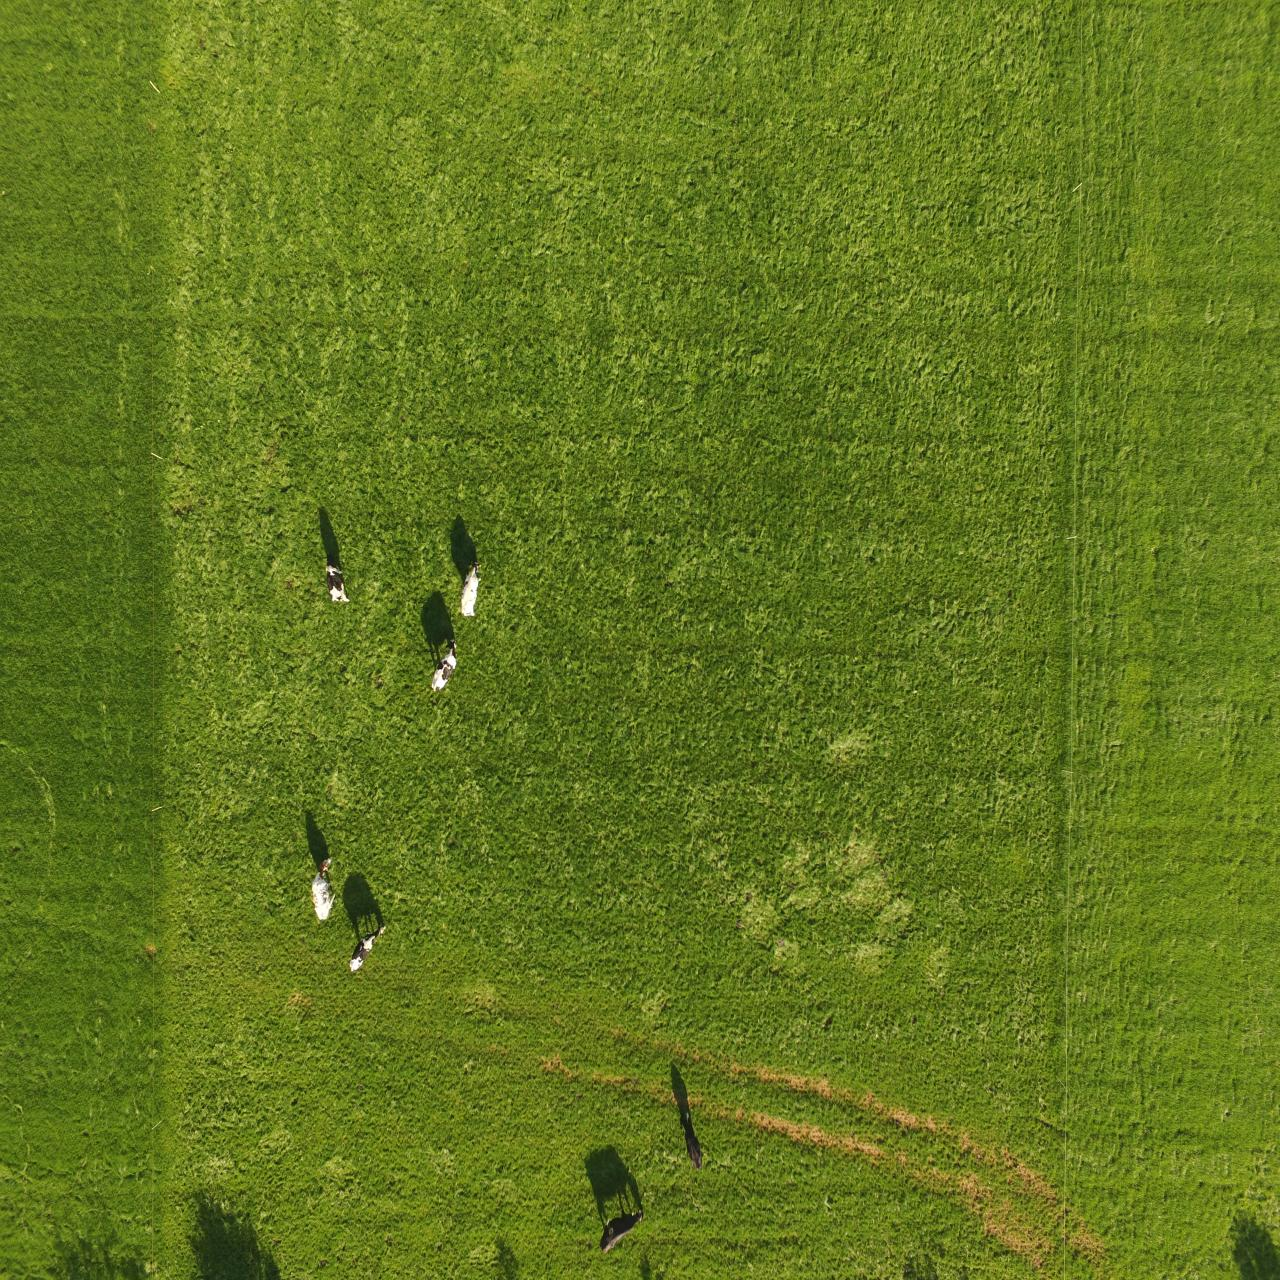cow: (339, 907, 388, 988), (306, 838, 341, 925), (587, 1207, 647, 1254), (450, 559, 491, 627), (678, 1111, 715, 1171), (429, 645, 462, 701), (314, 558, 350, 605)
